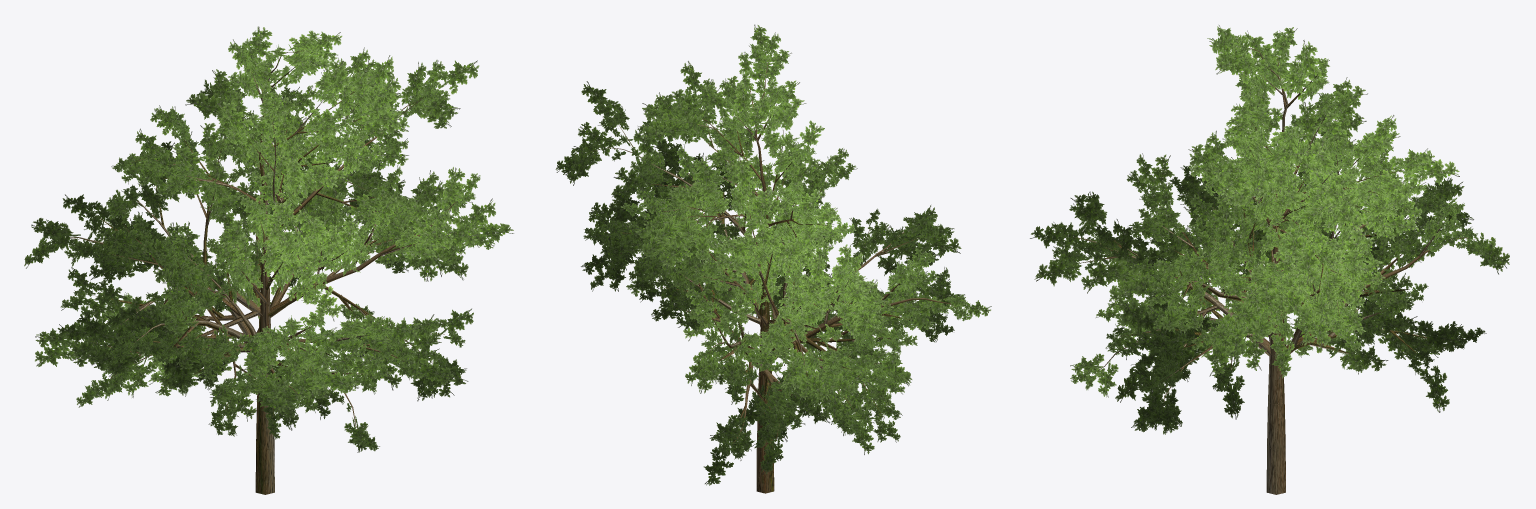
The model's file is eztree-oak.glb.
3 views of the same model, side by side, from view 1: azimuth 30°, elevation 25°; view 2: azimuth 150°, elevation 25°; view 3: azimuth 270°, elevation 25° (orthographic). The views are drawn at different scales.
Visible parts, largest first — view 1: LOD0; view 2: LOD0; view 3: LOD0.
Boxes of the visible parts, x1,y1,x2,y2 form: LOD0: (24,26,513,494); LOD0: (555,24,991,493); LOD0: (1030,25,1509,494).
Size of what is drawn, in the model's own units: 11.81 by 13 by 12.04.
2 materials, 2 textured.
